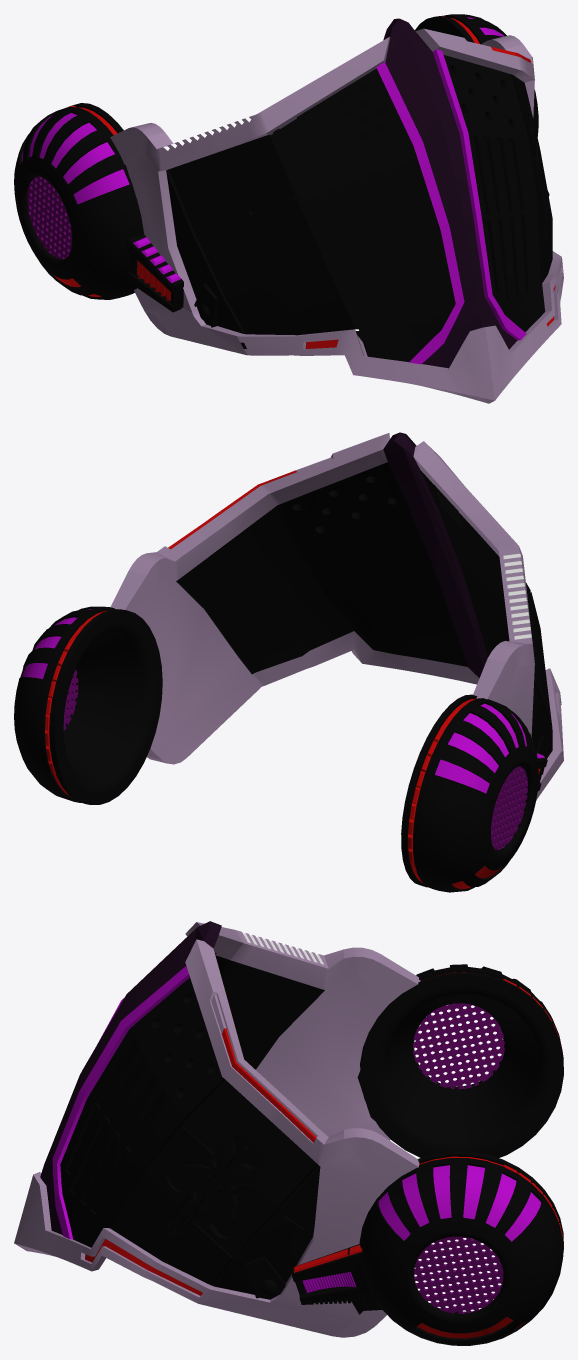
3 views of the same model, one above another, from view 1: azimuth 30°, elevation 25°; view 2: azimuth 150°, elevation 25°; view 3: azimuth 270°, elevation 25° (orthographic). The views are drawn at different scales.
Parts seen in each view (by area): view 1: Mandelorean_Mask, Cylinder, Symmetry_3, Boole_2_2, Symmetry_1_2, Mandalorean_Symbol; view 2: Mandelorean_Mask, Cylinder, Boole_2_2; view 3: Mandelorean_Mask, Cylinder, Boole_2_2, Mandalorean_Symbol, Boole_2, Symmetry_1_2.
Boxes of the visible parts, x1,y1,x2,y2 form: Mandelorean_Mask: (110, 18, 563, 403); Cylinder: (14, 14, 538, 299); Symmetry_3: (125, 234, 183, 312); Boole_2_2: (27, 176, 72, 259); Symmetry_1_2: (191, 284, 217, 327); Mandalorean_Symbol: (526, 109, 548, 244); Mandelorean_Mask: (110, 432, 563, 799); Cylinder: (14, 606, 538, 892); Boole_2_2: (63, 669, 527, 849); Mandelorean_Mask: (14, 921, 420, 1337); Cylinder: (359, 964, 563, 1345); Boole_2_2: (413, 1003, 504, 1313); Mandalorean_Symbol: (166, 1134, 267, 1239); Boole_2: (291, 1244, 376, 1304); Symmetry_1_2: (245, 1256, 285, 1299).
Bounding box in the file's own units: 13.81 × 8.93 × 13.46.
